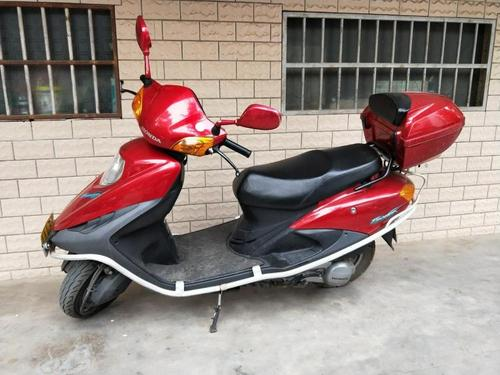motor: (40, 65, 443, 317)
